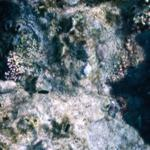dead: (5, 3, 145, 148)
